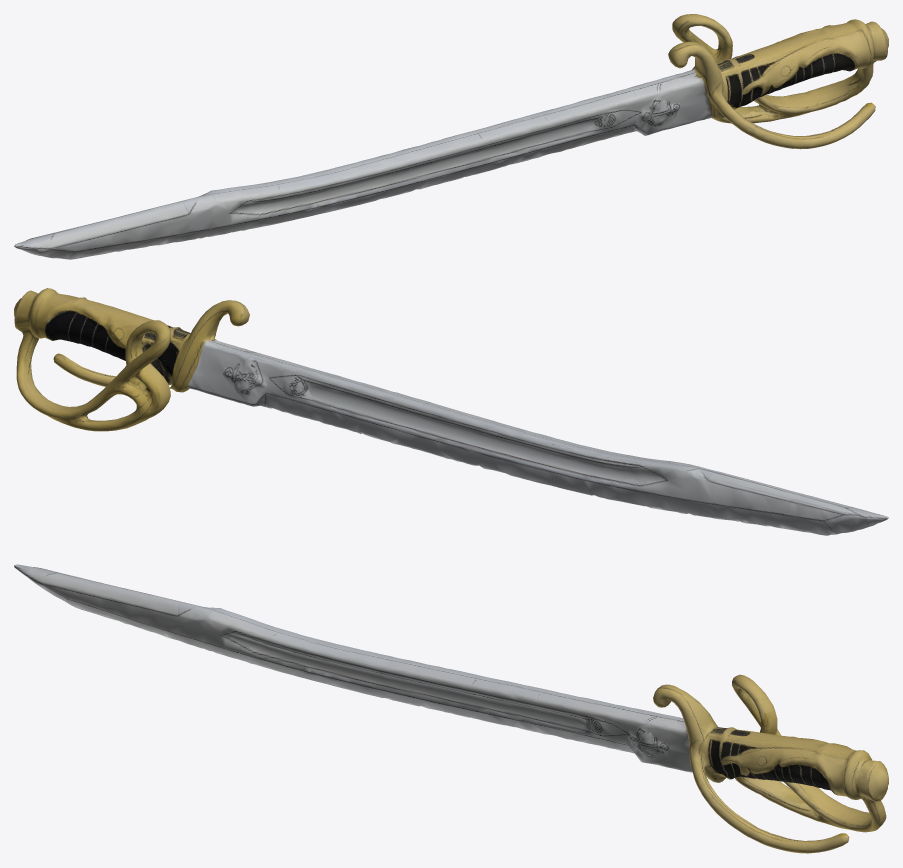
File: Sabre.fbx
3 views of the same model, one above another, from view 1: azimuth 30°, elevation 25°; view 2: azimuth 150°, elevation 25°; view 3: azimuth 330°, elevation 25° (orthographic).
Visible parts, largest first — view 1: Mesh_0; view 2: Mesh_0; view 3: Mesh_0.
Boxes of the visible parts, left/top/right/bottom form: Mesh_0: left=14, top=14, right=888, bottom=259; Mesh_0: left=14, top=288, right=888, bottom=535; Mesh_0: left=14, top=564, right=888, bottom=853.
Bounding box in the file's own units: 349 × 50 × 41.88.
Materials: 1 (1 with a texture image).
